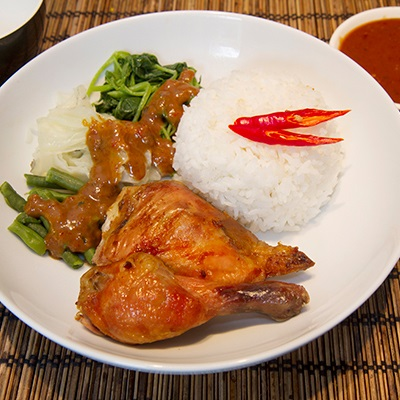buah_sayur_lainnya: (97, 59, 187, 130)
daging: (122, 197, 229, 314)
makanan_berpati: (239, 151, 311, 213)
